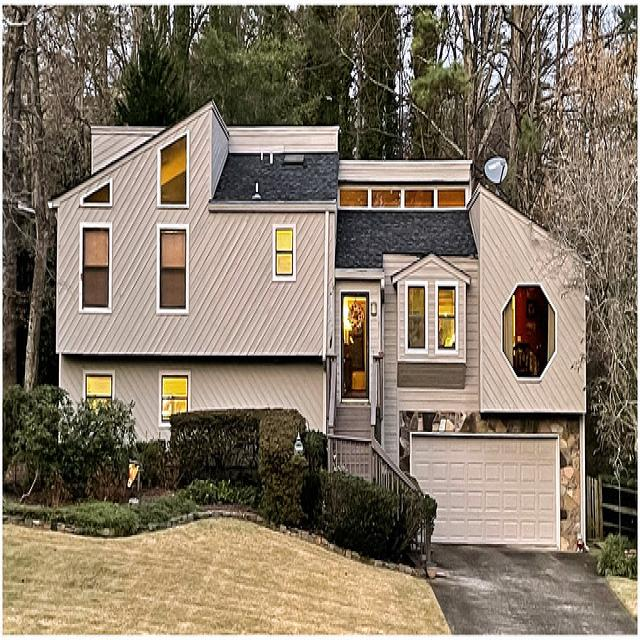building: (46, 106, 591, 556)
